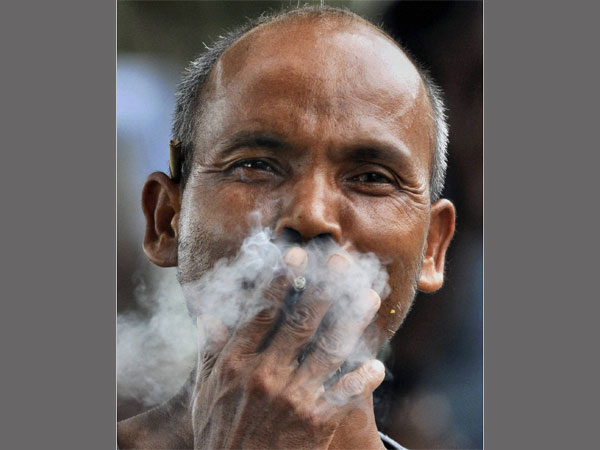cigarette: (290, 275, 309, 290)
